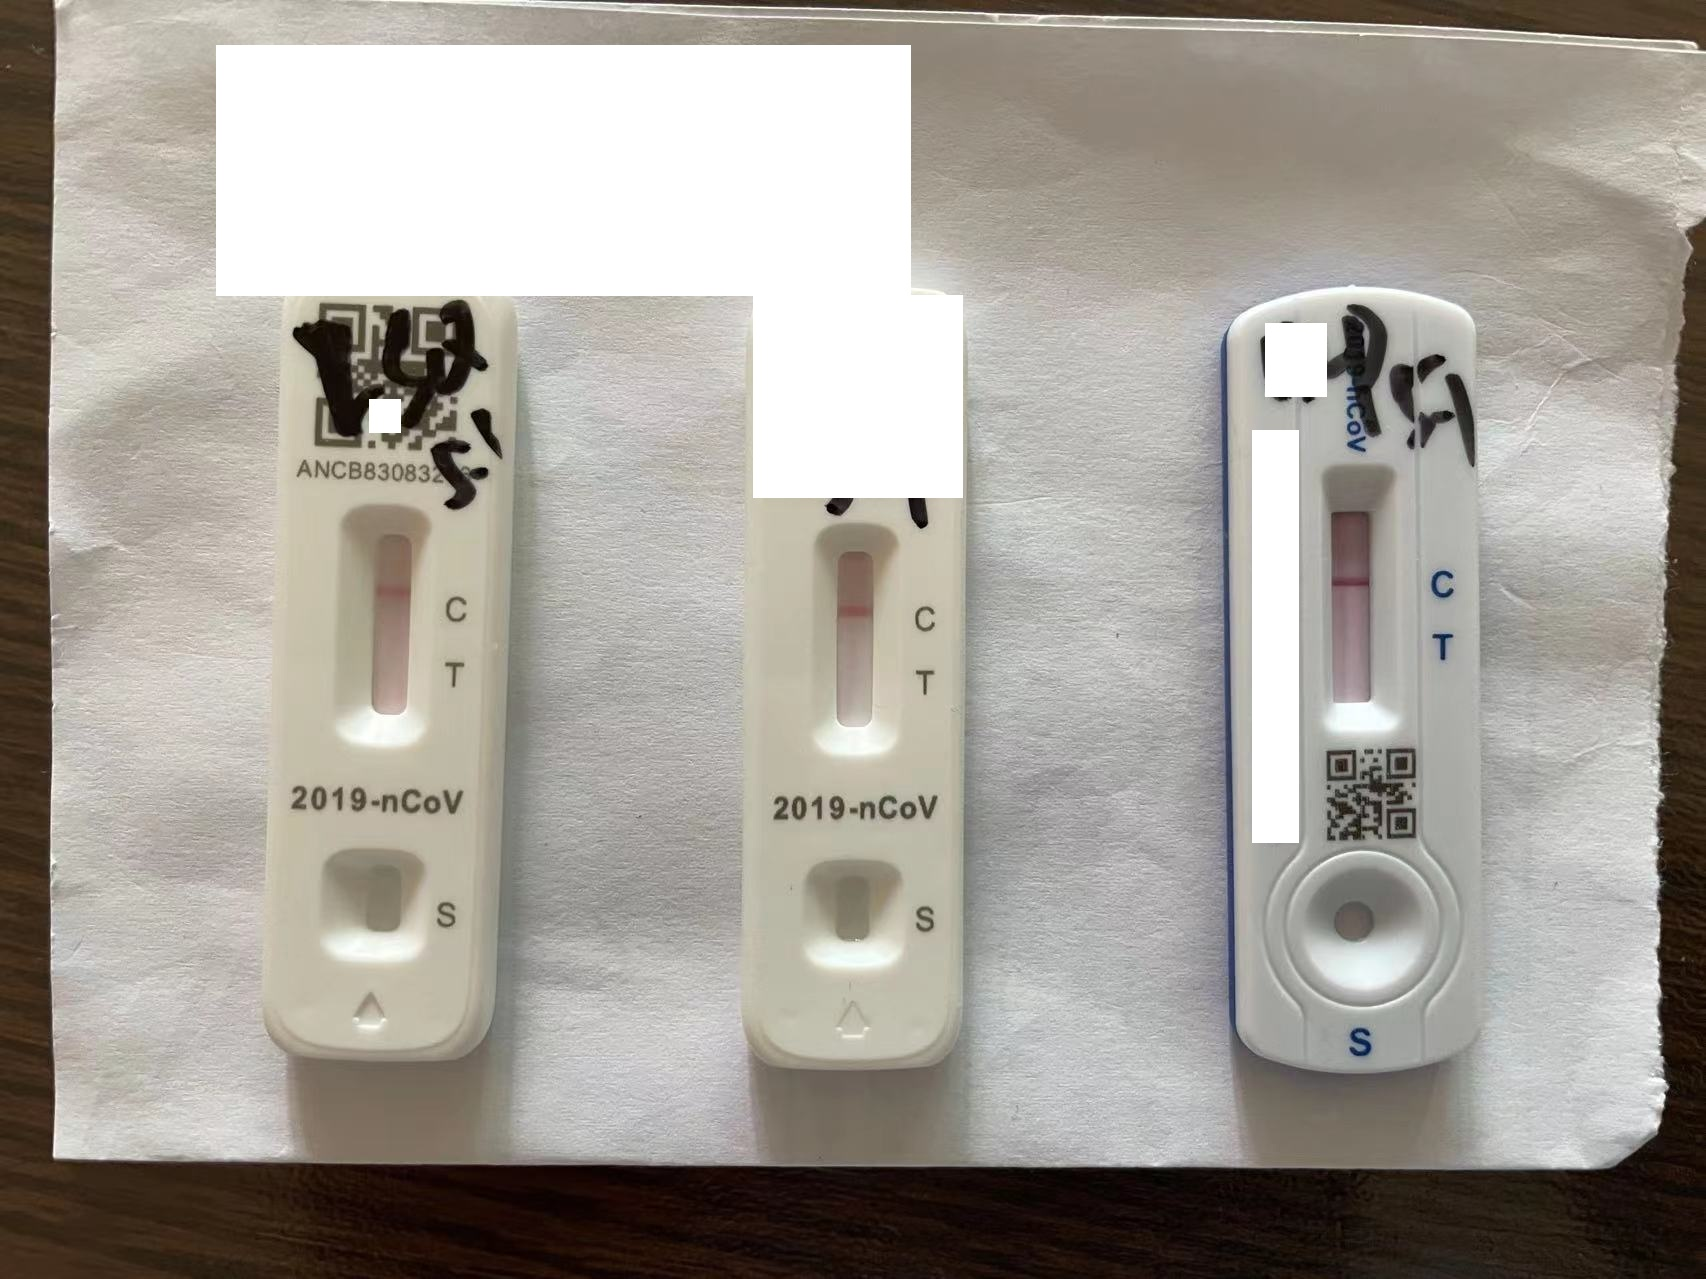negative: (334, 498, 433, 743), (1316, 466, 1398, 734), (809, 527, 896, 750)
